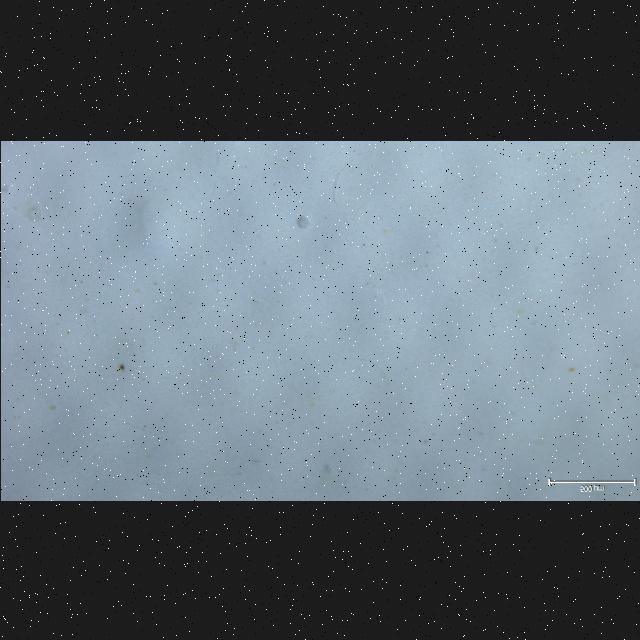Fibre: (331, 171, 340, 206)
Fragment: (296, 215, 309, 228)
